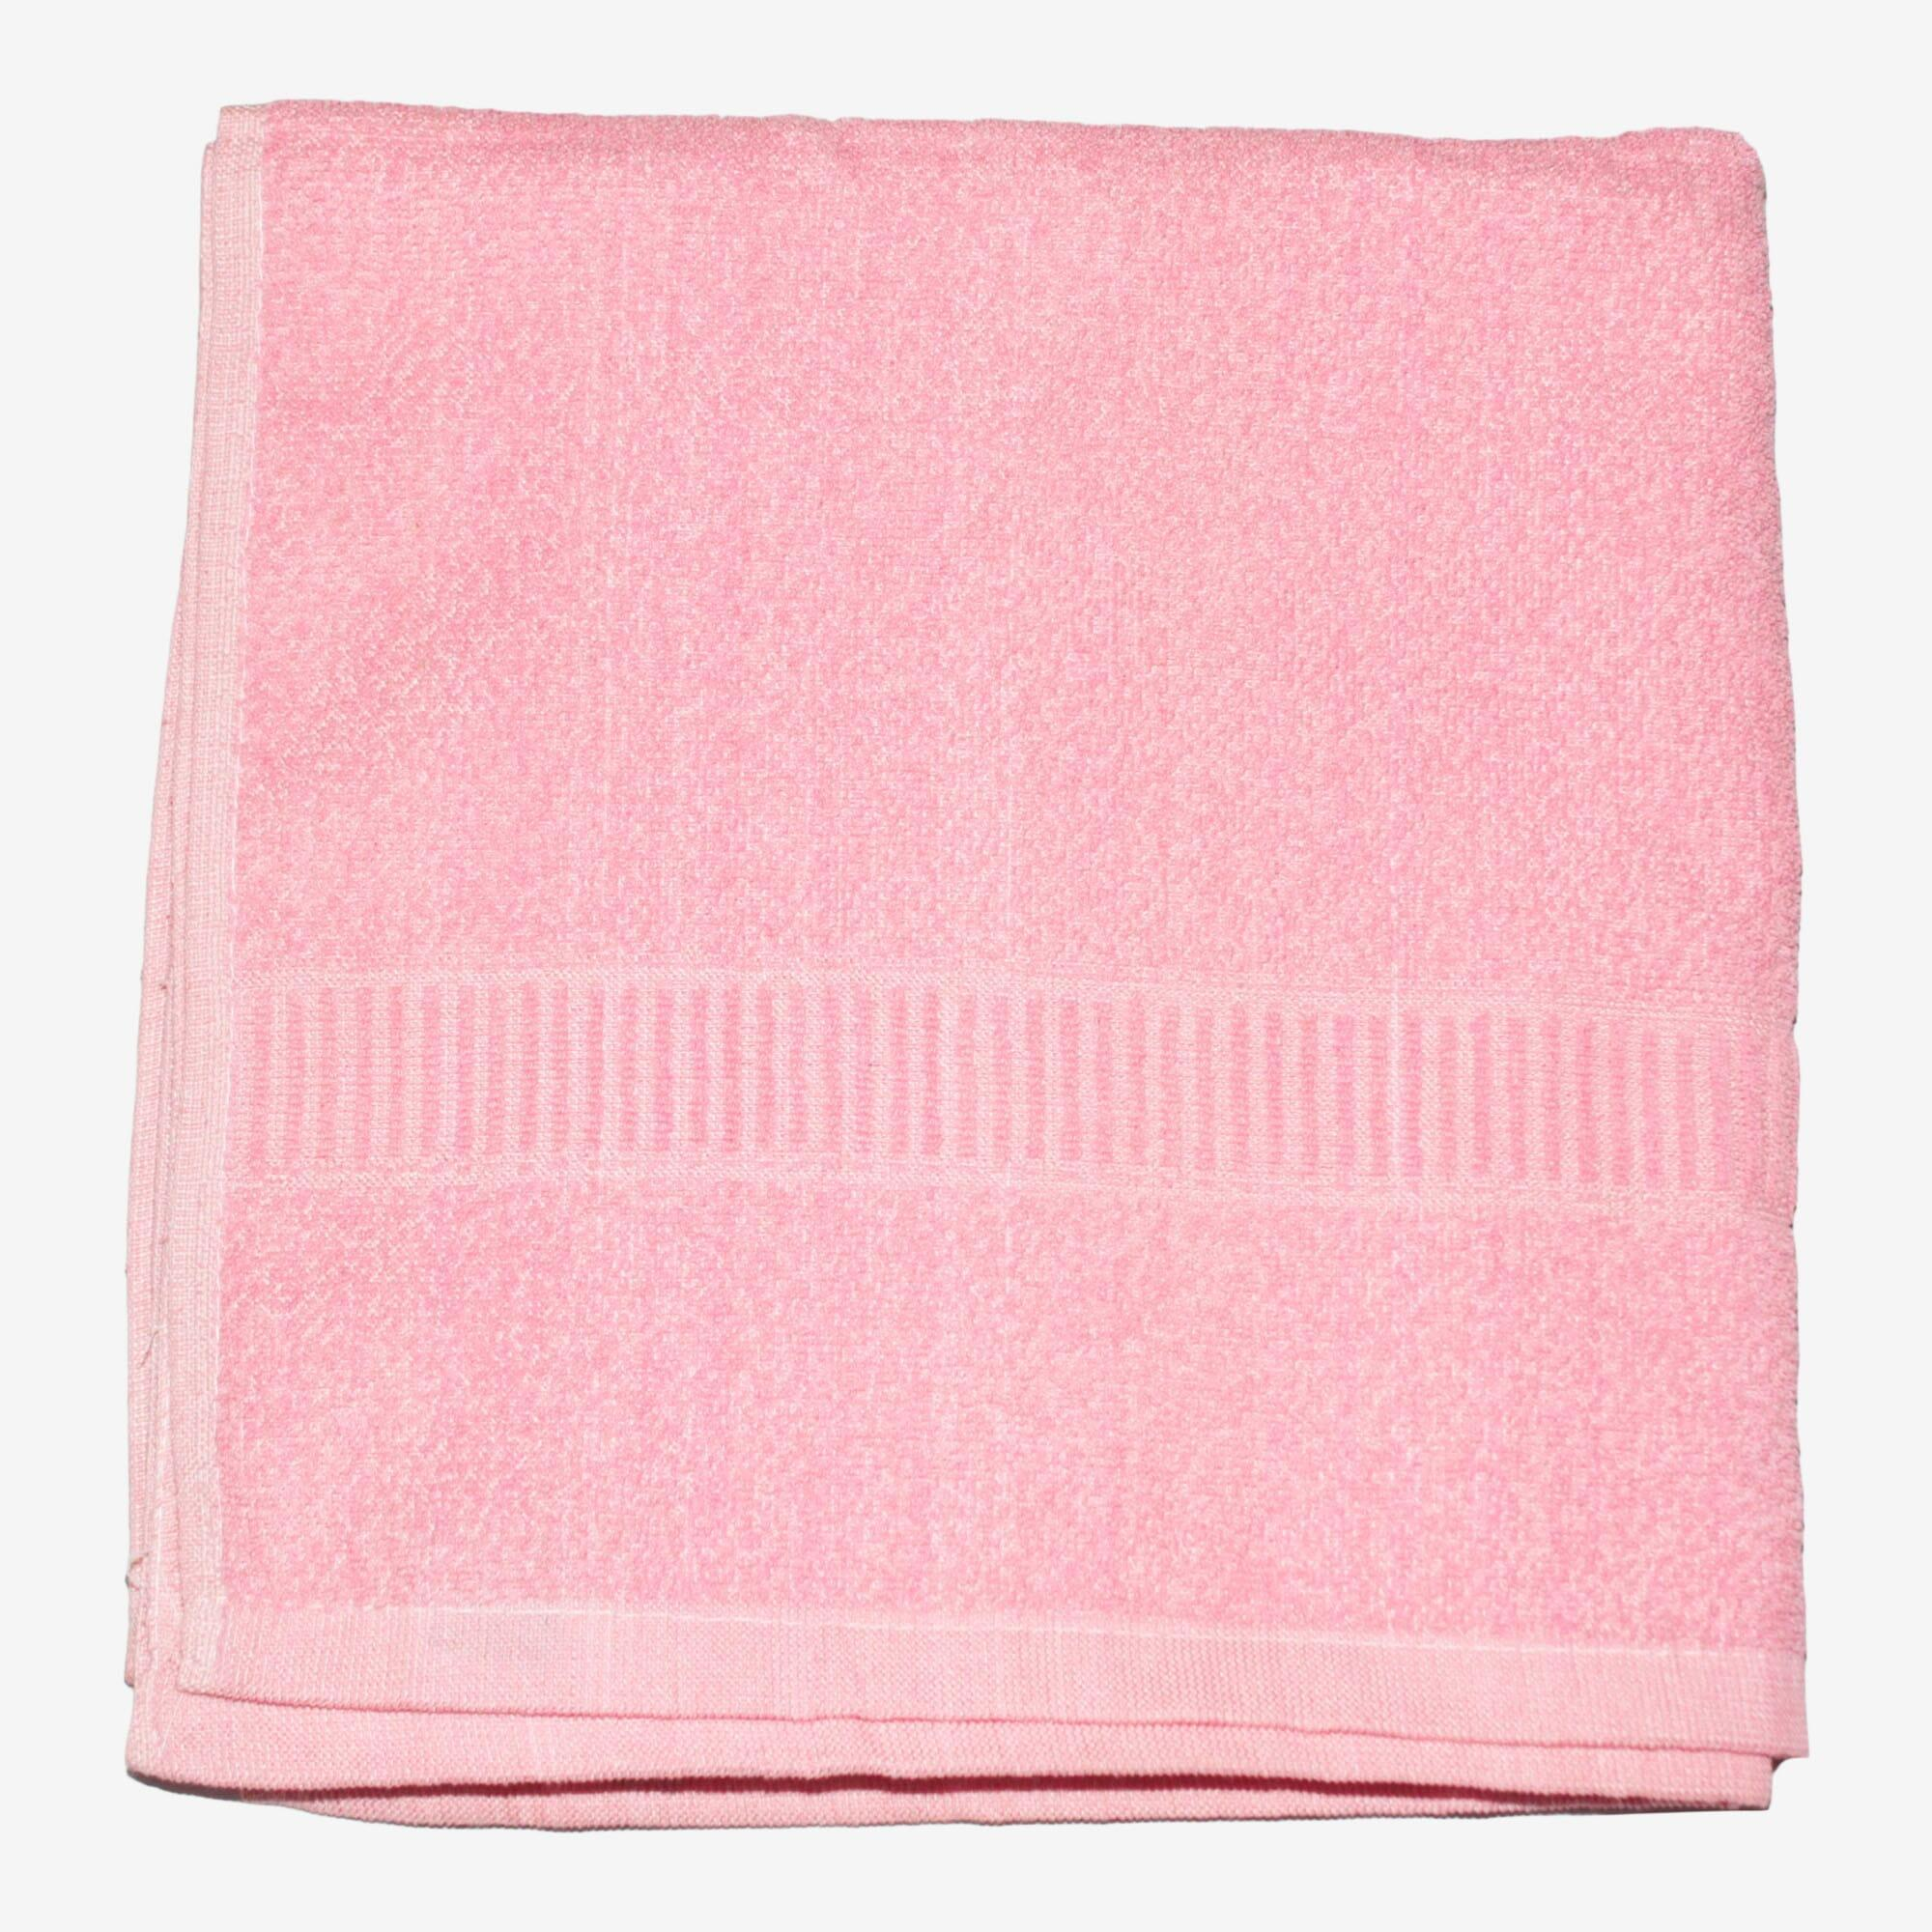towel: (81, 106, 1884, 1835)
